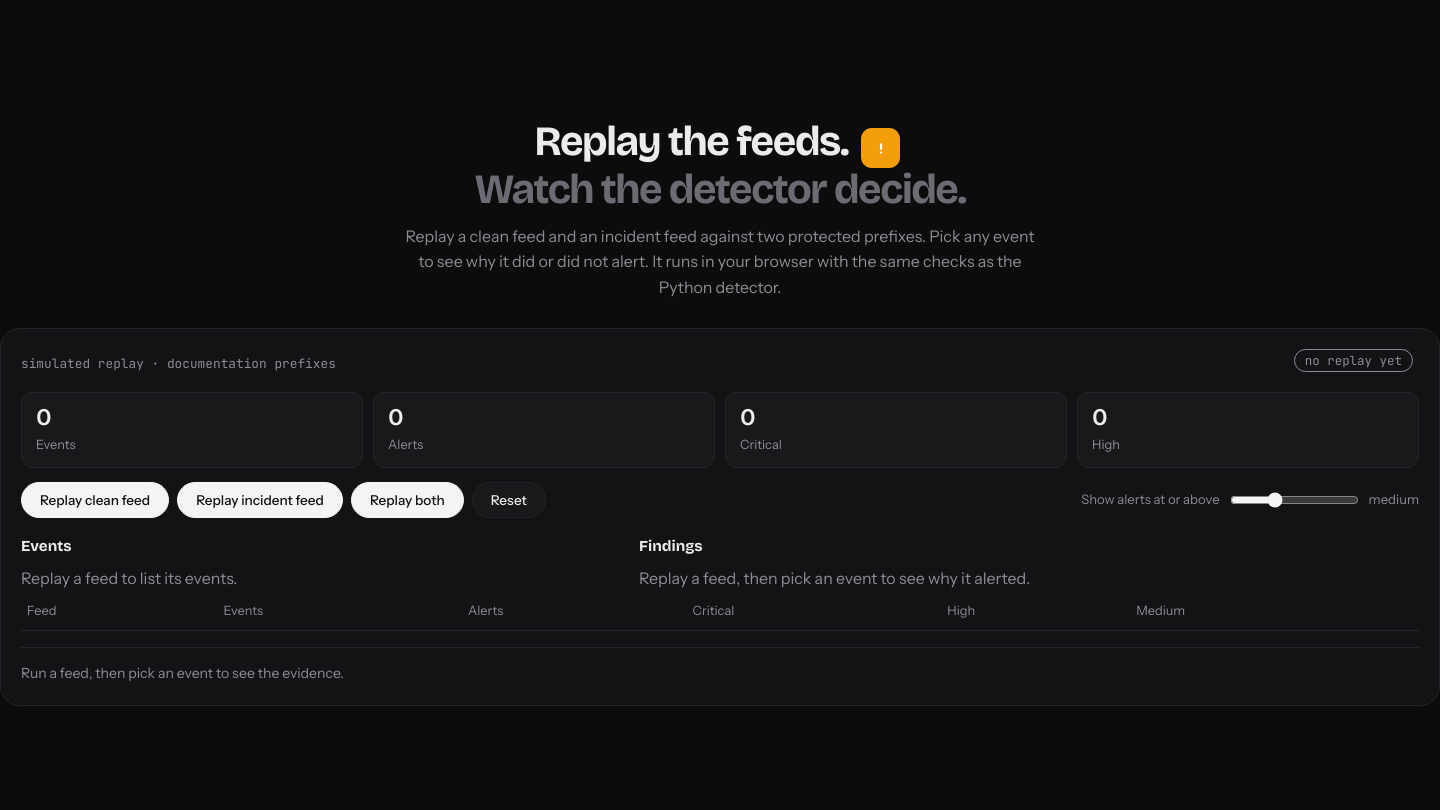
simulator › replays both feeds and resets back to the empty state
Step 1. Click the button "Replay both" → [407, 500], box [351,482,464,518]
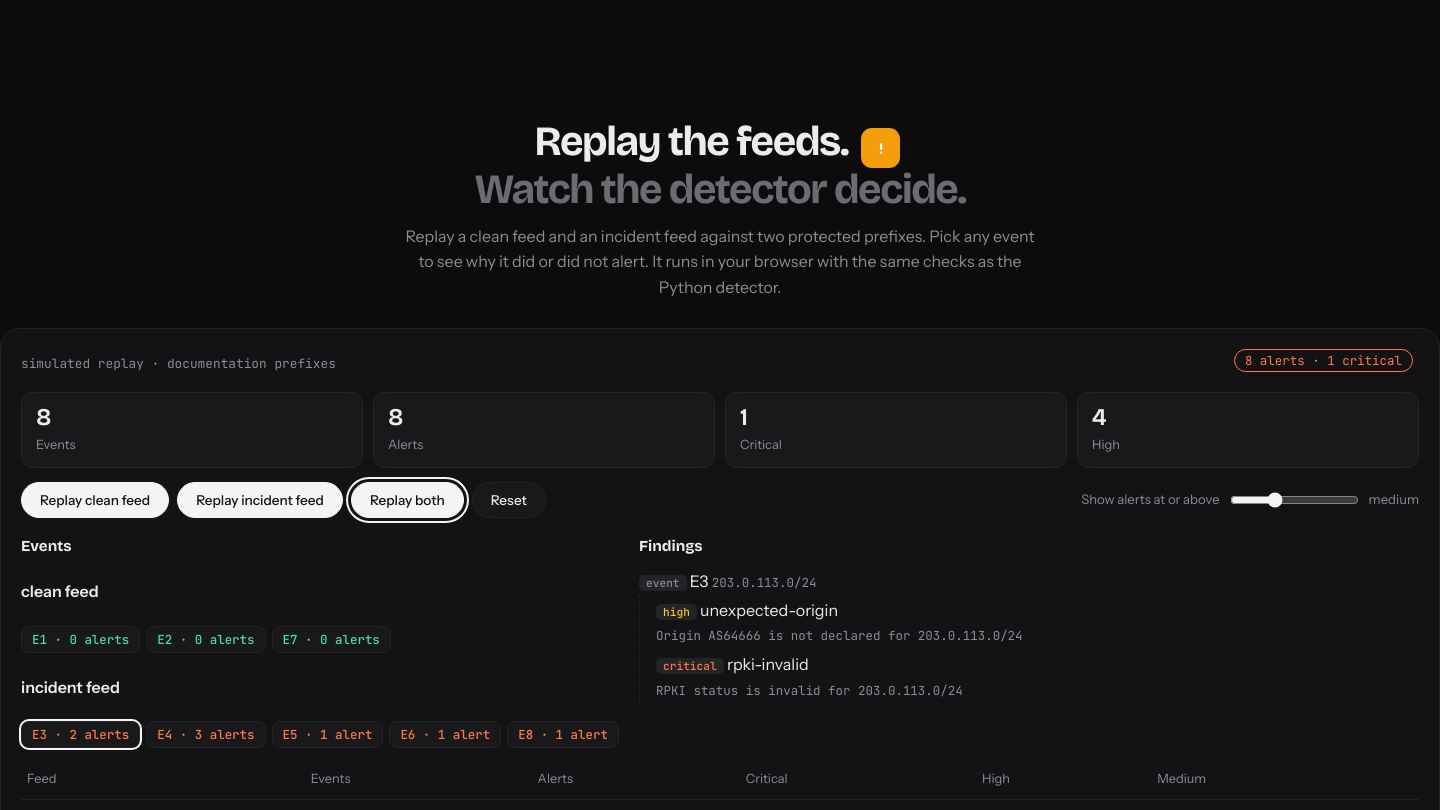
Check: the text "8 alerts · 1 critical" is shown, box [1234,349,1413,372]
Step 2. Click the button "Reset" → [509, 500], box [472,482,546,518]
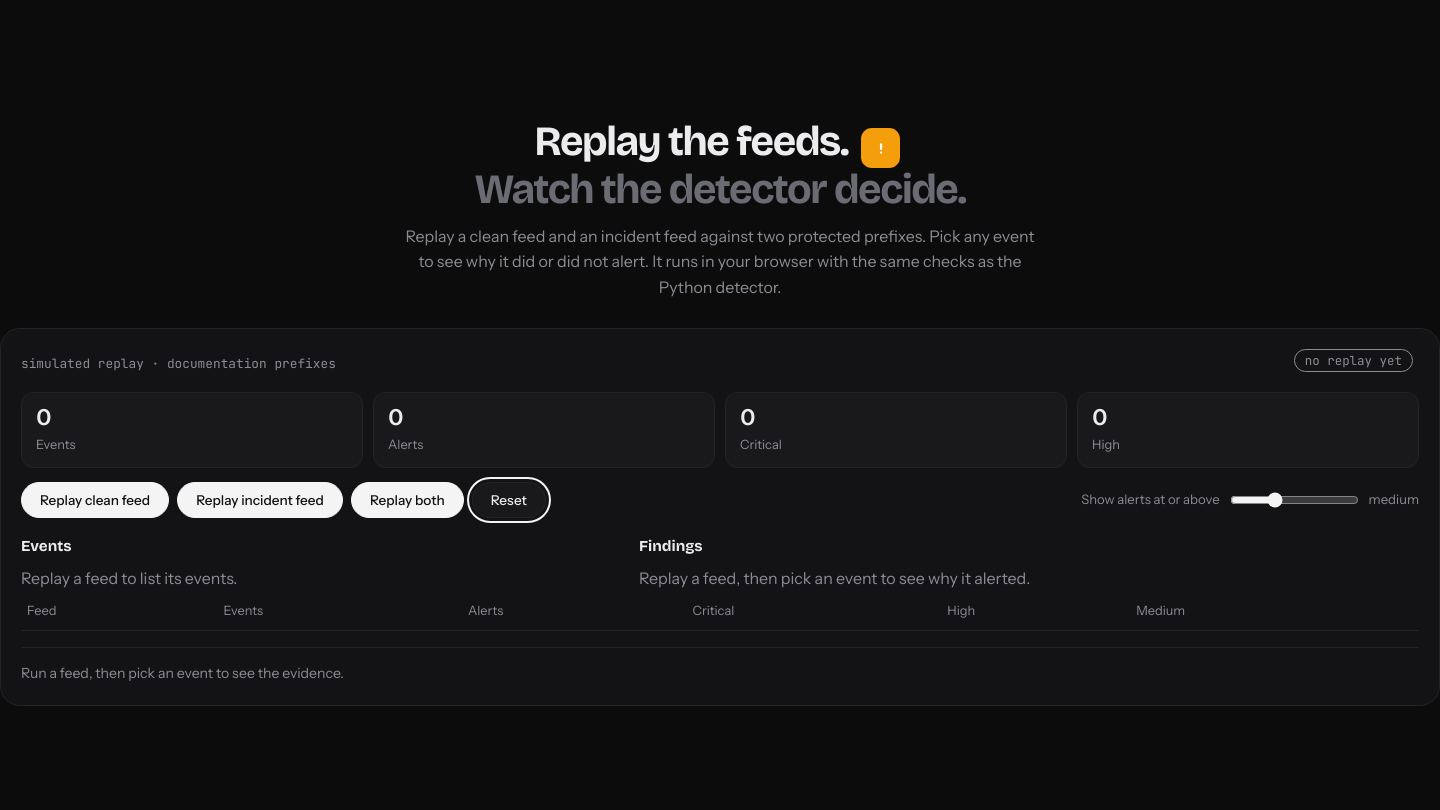
Check: the text "no replay yet" is shown, box [1294,349,1413,372]
Check: the text "Replay a feed, then pick an event to see why it alerted." is shown, box [639,568,1030,588]
